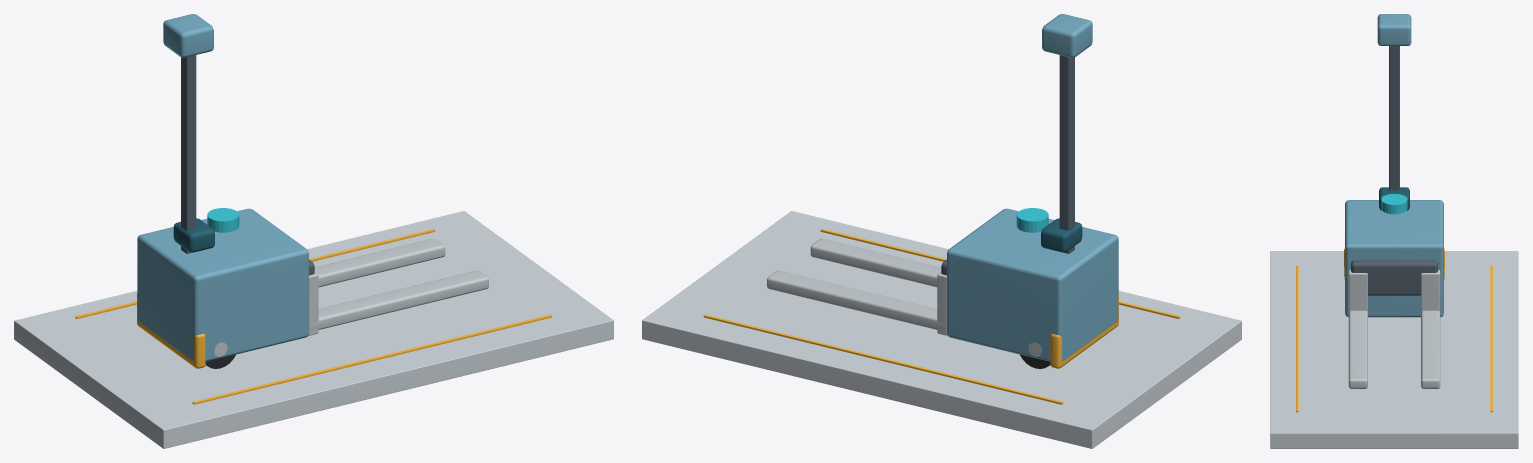
3 views of the same model, side by side, from view 1: azimuth 30°, elevation 25°; view 2: azimuth 150°, elevation 25°; view 3: azimuth 270°, elevation 25° (orthographic). The views are drawn at different scales.
Visible parts, largest first — view 1: Ground plane, Low lift power unit, Fork tine / pallet handling, Tall navigation or tiller mast, Fork tine / pallet handling.001, Upper guidance head, Concept clearance guide, Upper display, Perimeter safety bumper, Concept clearance guide.001, Navigation lidar; view 2: Ground plane, Low lift power unit, Fork tine / pallet handling.001, Tall navigation or tiller mast, Fork tine / pallet handling, Upper guidance head, Concept clearance guide.001, Upper display, Perimeter safety bumper, Concept clearance guide, Navigation lidar; view 3: Ground plane, Low lift power unit, Fork carriage, Tall navigation or tiller mast, Fork tine / pallet handling, Fork tine / pallet handling.001, Upper guidance head, Fork upright heel, Fork upright heel.001, Navigation lidar, Concept clearance guide, Concept clearance guide.001 (+1 smaller).
Part boxes in pixels (x1,y1,x2,y2): Ground plane: (14, 211, 613, 448); Low lift power unit: (137, 208, 308, 361); Fork tine / pallet handling: (311, 270, 488, 330); Tall navigation or tiller mast: (181, 55, 196, 253); Fork tine / pallet handling.001: (314, 238, 445, 287); Upper guidance head: (163, 14, 213, 57); Concept clearance guide: (192, 314, 552, 404); Upper display: (173, 218, 214, 252); Perimeter safety bumper: (137, 293, 205, 368); Concept clearance guide.001: (75, 229, 435, 318); Navigation lidar: (207, 208, 239, 232); Ground plane: (642, 211, 1241, 448); Low lift power unit: (947, 208, 1118, 361); Fork tine / pallet handling.001: (767, 270, 944, 330); Tall navigation or tiller mast: (1059, 55, 1074, 253); Fork tine / pallet handling: (810, 238, 941, 287); Upper guidance head: (1042, 14, 1092, 57); Concept clearance guide.001: (703, 314, 1063, 404); Upper display: (1041, 218, 1082, 252); Perimeter safety bumper: (1050, 293, 1118, 368); Concept clearance guide: (820, 229, 1180, 318); Navigation lidar: (1016, 208, 1048, 232); Ground plane: (1270, 251, 1518, 448); Low lift power unit: (1345, 200, 1443, 317); Fork carriage: (1351, 260, 1437, 295); Tall navigation or tiller mast: (1389, 46, 1399, 190); Fork tine / pallet handling: (1348, 310, 1367, 388); Fork tine / pallet handling.001: (1421, 310, 1440, 388); Upper guidance head: (1377, 14, 1411, 45); Fork upright heel: (1348, 270, 1367, 311); Fork upright heel.001: (1421, 270, 1440, 311); Navigation lidar: (1381, 193, 1407, 214); Concept clearance guide: (1296, 266, 1298, 412); Concept clearance guide.001: (1490, 266, 1492, 412).
Size of the model in its own units: 2.93 by 2.16 by 1.69.
